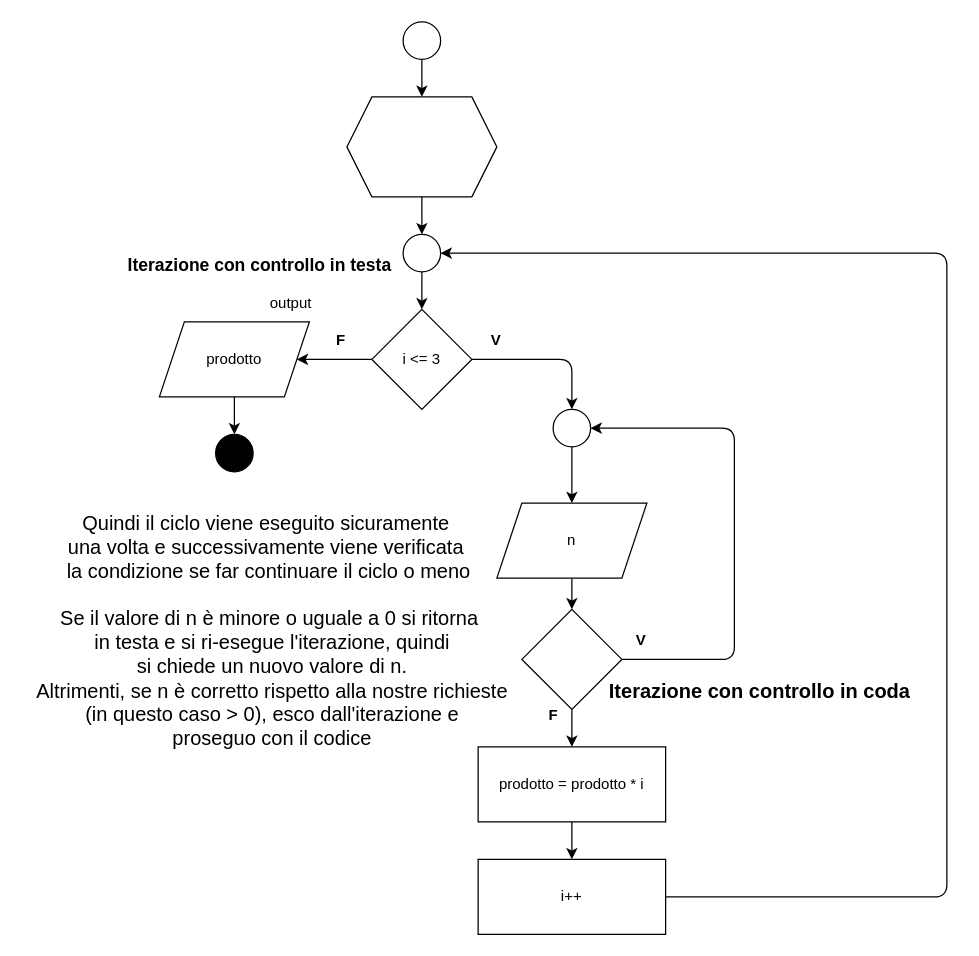
The diagram is 979 pixels wide and 956 high, and some of its shapes have lost their labels. The centre of each missing label's shape, as x and y in pixels:
int n, prodotto = 1, i = 1: the point at 421,146
n <= 0: the point at 571,658
